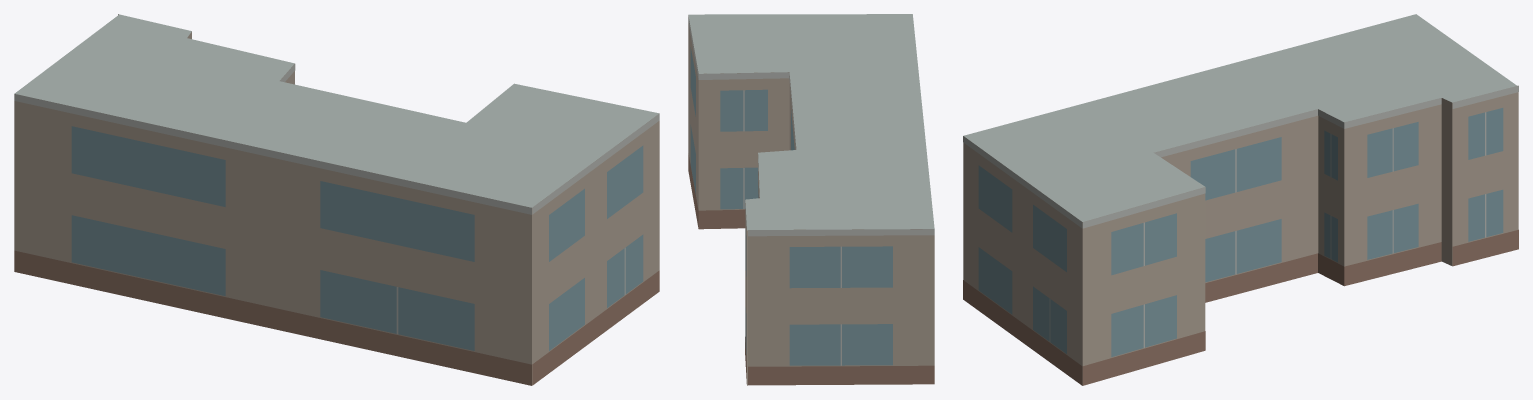
Rendered from survey-upis-32768334.glb.
3 renders of one model, left to right at view 1: azimuth 30°, elevation 25°; view 2: azimuth 150°, elevation 25°; view 3: azimuth 270°, elevation 25°, orthographic. The views are drawn at different scales.
Parts seen in each view (by area): view 1: survey-upis-32768334.tmp; view 2: survey-upis-32768334.tmp; view 3: survey-upis-32768334.tmp.
Boxes of the visible parts, x1,y1,x2,y2 form: survey-upis-32768334.tmp: (14, 14, 659, 385); survey-upis-32768334.tmp: (688, 14, 934, 385); survey-upis-32768334.tmp: (963, 14, 1518, 385).
Size of the model in its own units: 16.64 by 6.1 by 18.77.
